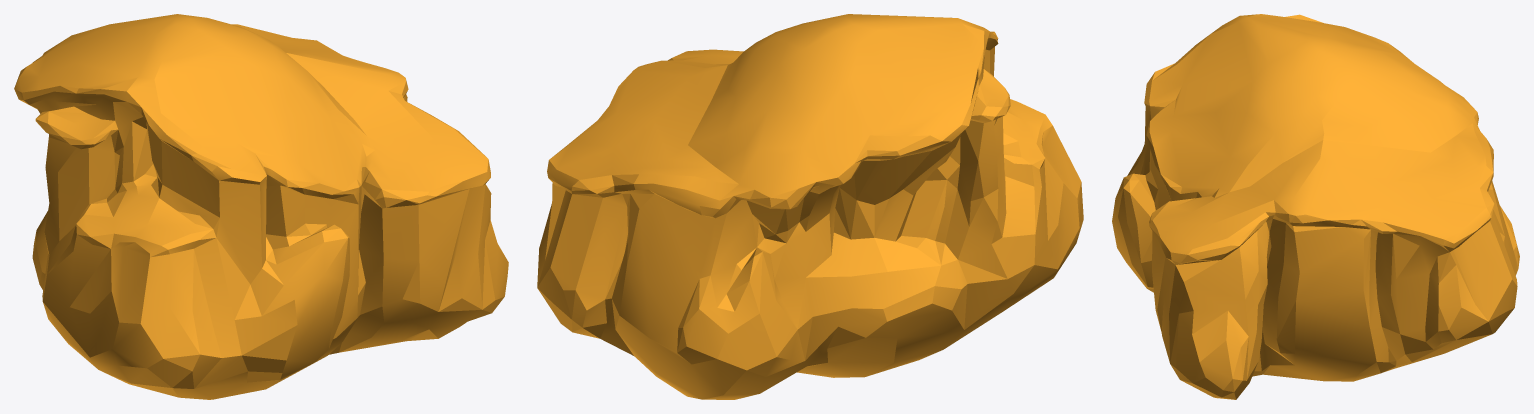
Rendered from SM_Iceberg_Medium_F_Snow.fbx.
The picture shows the model from 3 angles, left to right: view 1: azimuth 30°, elevation 25°; view 2: azimuth 150°, elevation 25°; view 3: azimuth 270°, elevation 25°; orthographic projection. The views are drawn at different scales.
Visible parts, largest first — view 1: iceberg-medium-f-snow; view 2: iceberg-medium-f-snow; view 3: iceberg-medium-f-snow.
Boxes of the visible parts, x1,y1,x2,y2 form: iceberg-medium-f-snow: [14, 14, 508, 399]; iceberg-medium-f-snow: [537, 14, 1083, 399]; iceberg-medium-f-snow: [1112, 14, 1519, 399].
Size of the model in its own units: 15.67 by 12.12 by 15.35.
